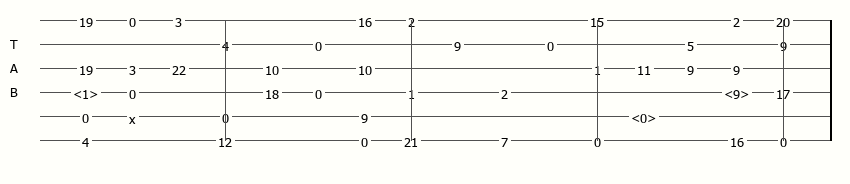0: (82, 110, 93, 123), (129, 86, 140, 99), (129, 14, 140, 27), (222, 110, 233, 123), (315, 38, 326, 51), (315, 86, 326, 99), (361, 134, 372, 147), (547, 38, 558, 51), (594, 134, 605, 147), (780, 134, 791, 147)
1: (408, 86, 419, 99), (594, 62, 605, 75)
10: (265, 62, 283, 75), (358, 62, 376, 75)
11: (637, 62, 655, 75)
12: (218, 134, 236, 147)
15: (590, 14, 608, 27)
16: (358, 14, 376, 27), (730, 134, 748, 147)
17: (776, 86, 794, 99)
18: (265, 86, 283, 99)
19: (79, 62, 97, 75), (79, 14, 97, 27)
2: (408, 14, 419, 27), (501, 86, 512, 99), (733, 14, 744, 27)
20: (776, 14, 794, 27)
21: (404, 134, 422, 147)
22: (172, 62, 190, 75)
3: (129, 62, 140, 75), (175, 14, 186, 27)
4: (82, 134, 93, 147), (222, 38, 233, 51)
5: (687, 38, 698, 51)
7: (501, 134, 512, 147)
9: (361, 110, 372, 123), (454, 38, 465, 51), (687, 62, 698, 75), (733, 62, 744, 75), (780, 38, 791, 51)
harmonic: (73, 86, 102, 99), (631, 110, 660, 123), (724, 86, 753, 99)
x: (129, 111, 140, 122)
